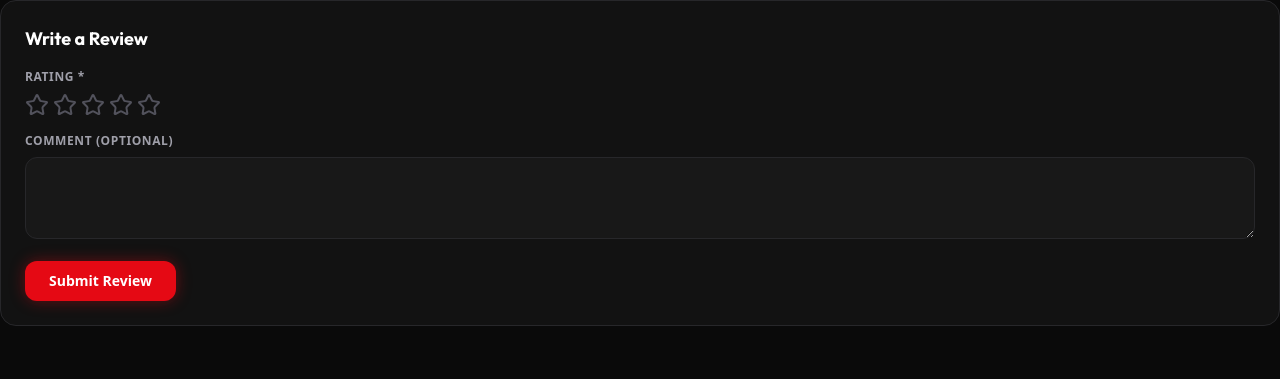
Test: AddReviewForm › falls back to a generic message when the error is not an Error
What coordinates should you click on to do the following:
click the 1st button
I would click on:
 (37, 105)
Its box is [25, 93, 49, 117].
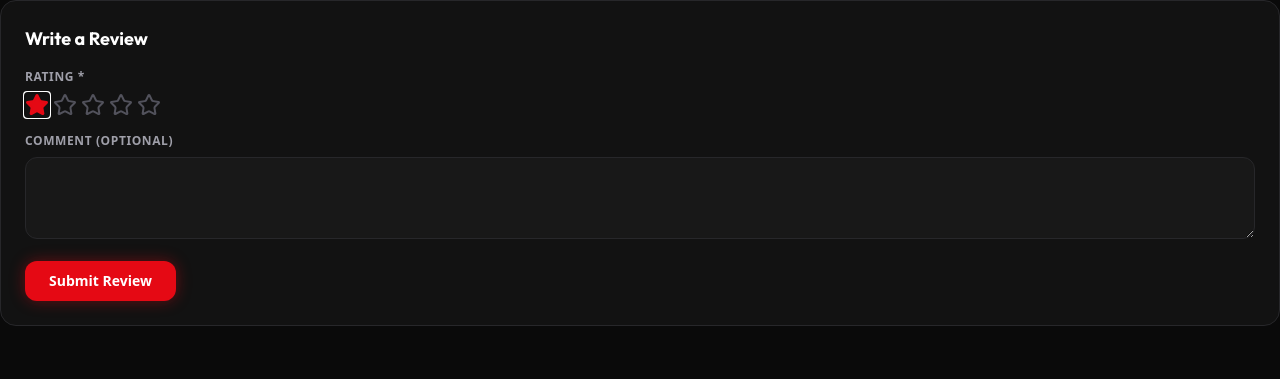
What coordinates should you click on to do the following:
click the button "Submit Review"
I would click on:
 (100, 281)
Its box is [25, 261, 176, 301].
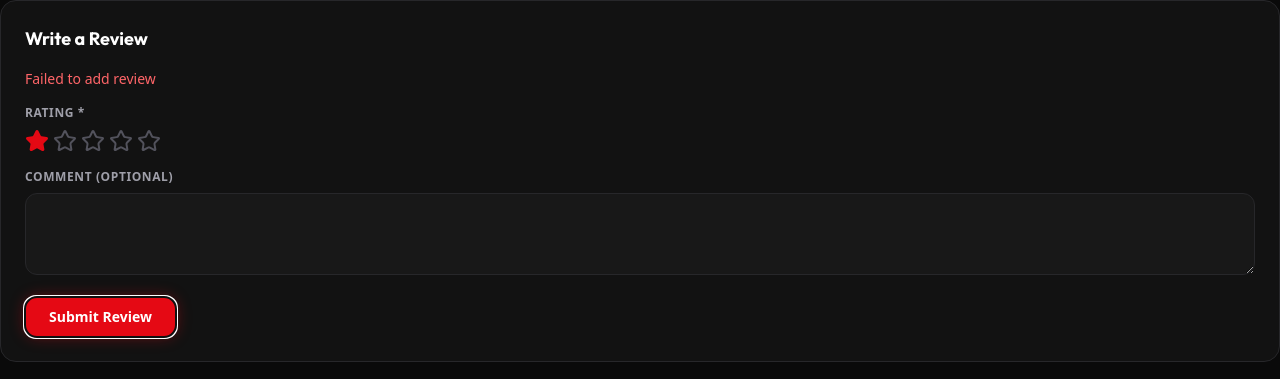
Check: the text "Failed to add review" is shown, box [25, 69, 156, 88]
